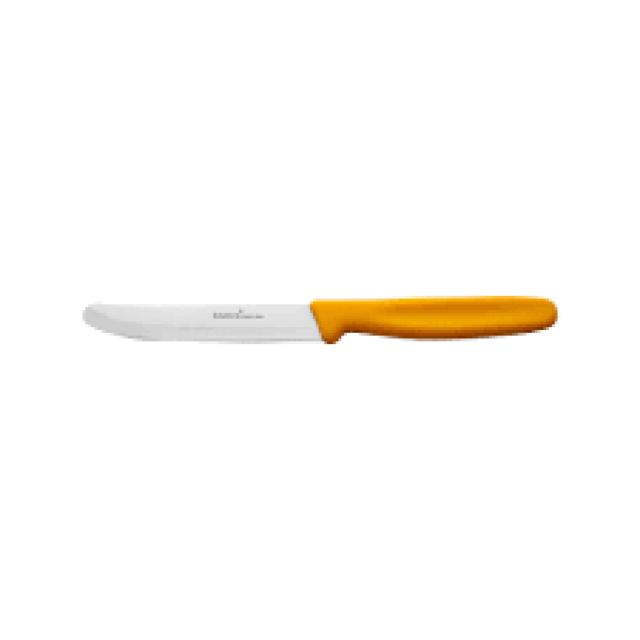Knife: (82, 296, 558, 341)
